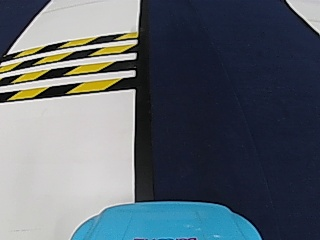bump: (12, 36, 122, 98)
